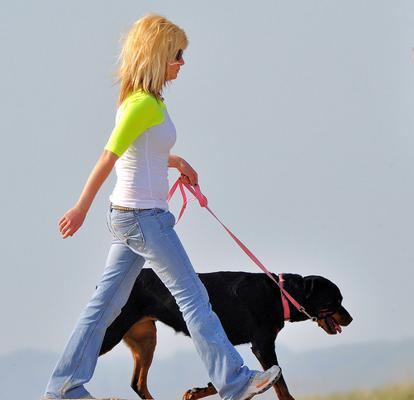person: (46, 17, 282, 400)
